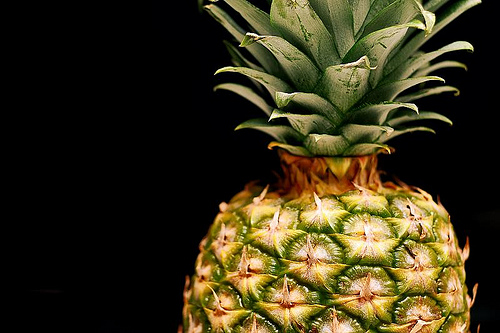pineapple: (176, 3, 491, 332)
